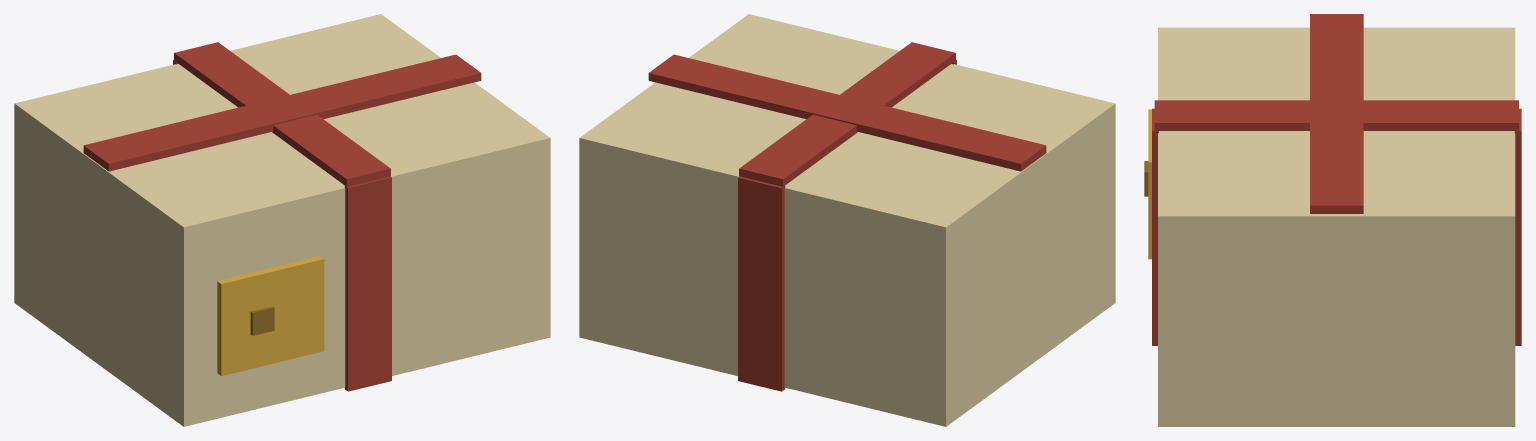
File: cheese_parcel.glb
The picture shows the model from 3 angles, left to right: view 1: azimuth 30°, elevation 25°; view 2: azimuth 150°, elevation 25°; view 3: azimuth 270°, elevation 25°; orthographic projection. The views are drawn at different scales.
Visible parts, largest first — view 1: paper wrapped parcel.001, red ribbon cross.001, cheese label.001, red ribbon.002, red ribbon top.001, cheese label hole.001; view 2: paper wrapped parcel.001, red ribbon cross.001, red ribbon.003, red ribbon top.001; view 3: paper wrapped parcel.001, red ribbon cross.001, red ribbon top.001, red ribbon.003, red ribbon.002, cheese label.001.
Boxes of the visible parts, x1,y1,x2,y2 form: paper wrapped parcel.001: (14, 14, 550, 426); red ribbon cross.001: (83, 54, 481, 171); cheese label.001: (217, 256, 324, 376); red ribbon.002: (344, 176, 391, 391); red ribbon top.001: (174, 42, 390, 186); cheese label hole.001: (250, 306, 274, 335); paper wrapped parcel.001: (579, 14, 1115, 426); red ribbon cross.001: (648, 54, 1046, 171); red ribbon.003: (738, 176, 785, 391); red ribbon top.001: (739, 42, 955, 186); paper wrapped parcel.001: (1158, 27, 1515, 426); red ribbon cross.001: (1310, 14, 1363, 213); red ribbon top.001: (1154, 100, 1518, 130); red ribbon.003: (1514, 108, 1521, 345); red ribbon.002: (1152, 108, 1158, 345); cheese label.001: (1148, 109, 1151, 259).
Size of the model in its own units: 0.3175 by 0.1734 by 0.2641.
5 materials, 5 textured.
